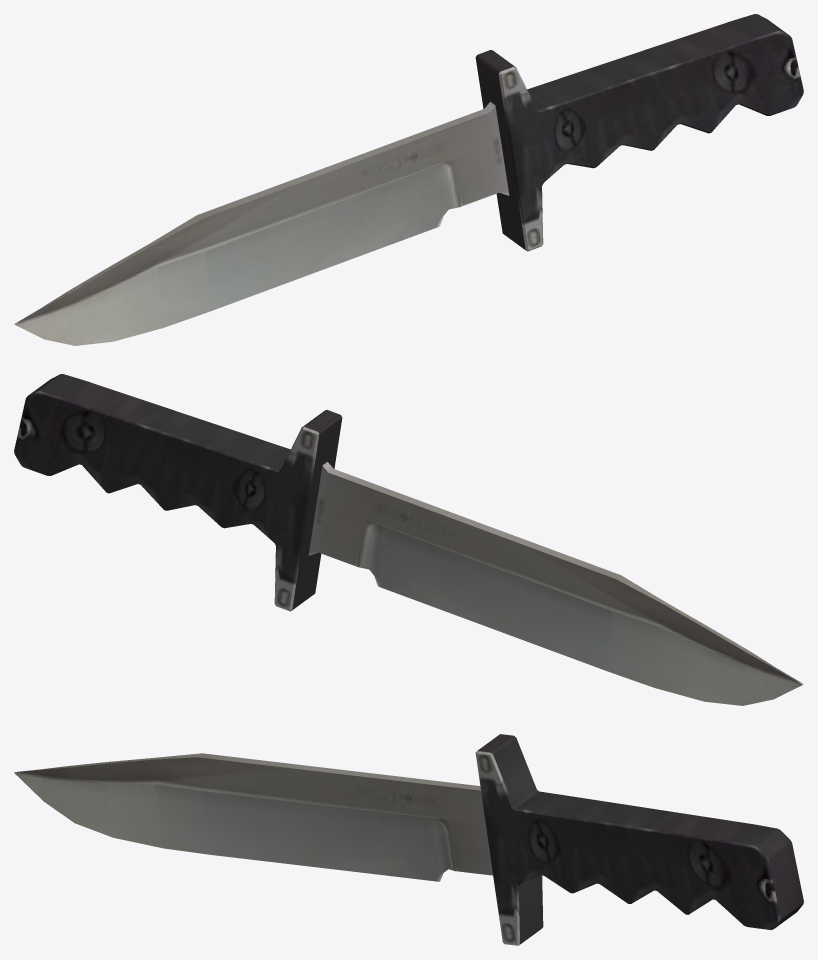
The model's file is mes.fbx.
The picture shows the model from 3 angles, top to bottom: view 1: azimuth 30°, elevation 25°; view 2: azimuth 150°, elevation 25°; view 3: azimuth 330°, elevation 25°; orthographic projection.
Parts seen in each view (by area): view 1: pCube3; view 2: pCube3; view 3: pCube3.
Part boxes in pixels (box(x1,y1,x2,y2)): pCube3: box(14, 14, 803, 345); pCube3: box(14, 374, 803, 705); pCube3: box(14, 734, 803, 945).
Size of the model in its own units: 21.57 by 4.99 by 1.21.
